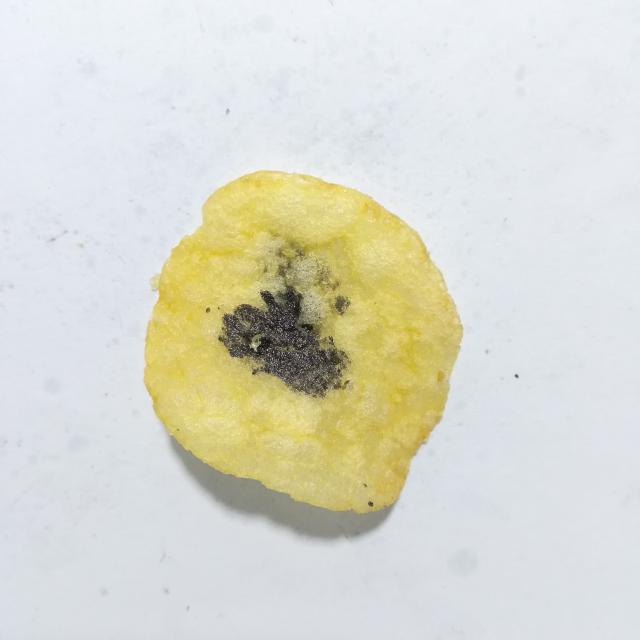chip: (144, 171, 462, 512)
damaged: (219, 286, 348, 397), (334, 295, 351, 314), (368, 501, 373, 507), (206, 307, 210, 312)
semi-damaged: (259, 235, 348, 347)
